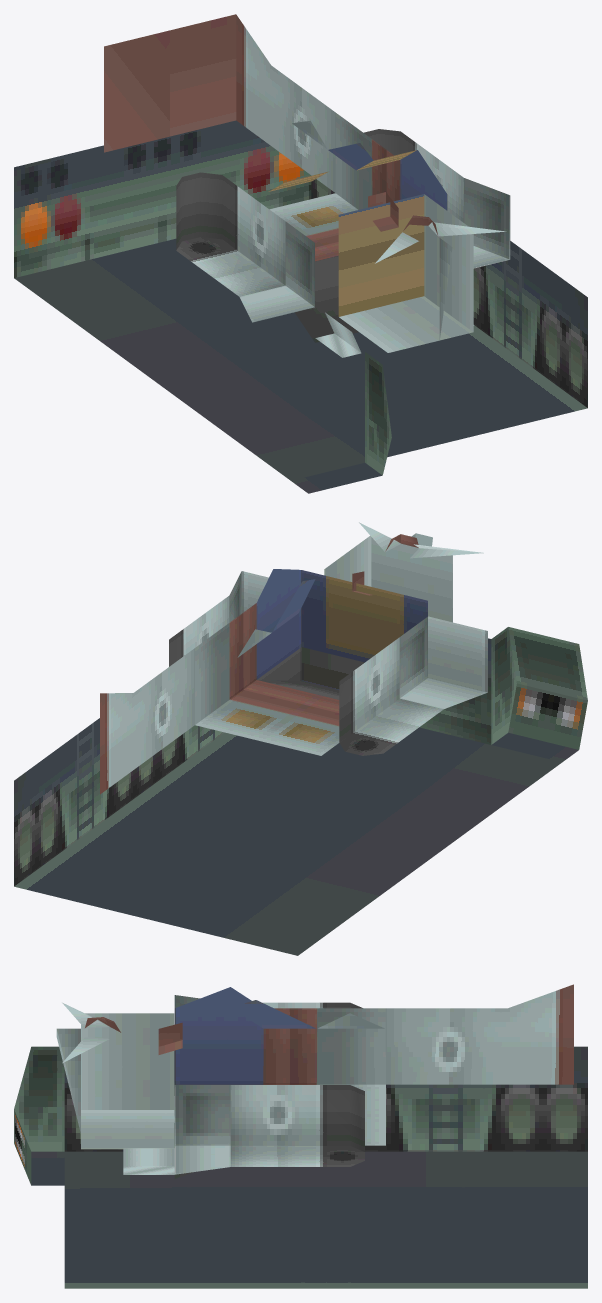
The model's file is ps2_save-icons_mobilesuitgundamtheoneyearwar.glb.
The picture shows the model from 3 angles, top to bottom: view 1: azimuth 30°, elevation 25°; view 2: azimuth 150°, elevation 25°; view 3: azimuth 270°, elevation 25°; orthographic projection. The views are drawn at different scales.
Visible parts, largest first — view 1: gundam0.ico; view 2: gundam0.ico; view 3: gundam0.ico.
Part boxes in pixels (x1,y1,x2,y2): gundam0.ico: (14, 14, 587, 493); gundam0.ico: (14, 522, 587, 955); gundam0.ico: (14, 984, 587, 1288).
Bounding box in the file's own units: 2.82 × 2.01 × 4.99.
Materials: 1 (1 with a texture image).
